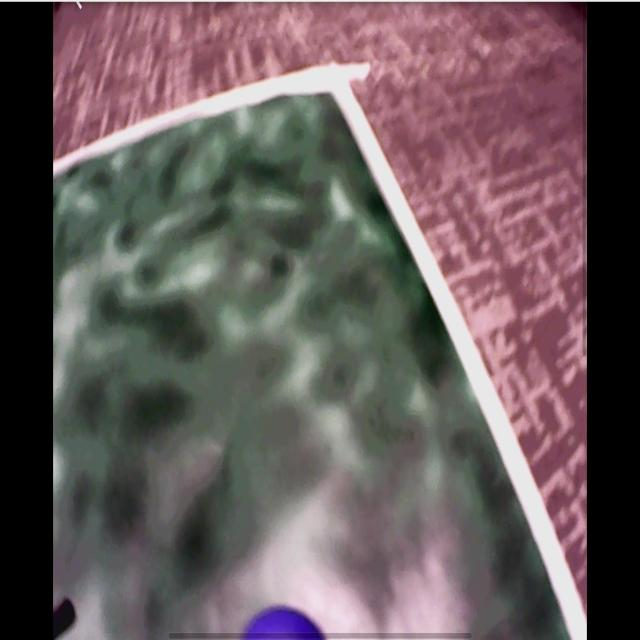ball: (242, 607, 321, 640)
